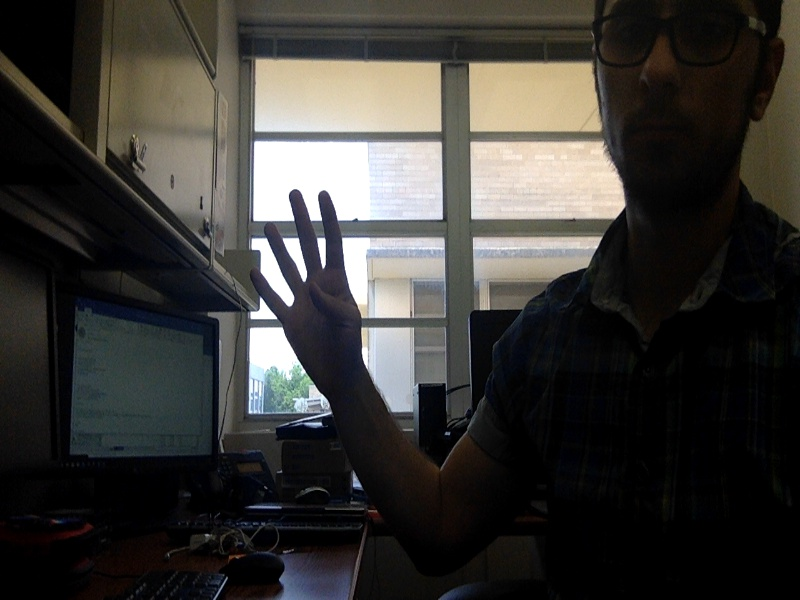4-hand: (248, 188, 367, 386)
